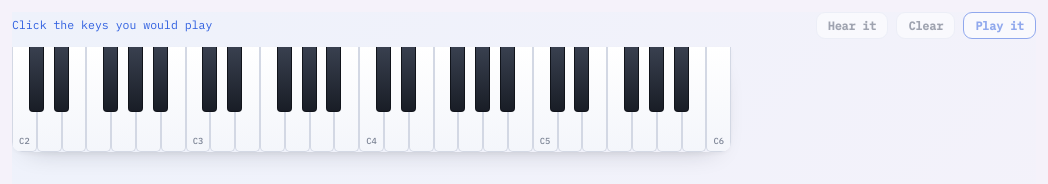
VirtualKeyboard › clears the selection after sending, ready for the next answer
The image size is (1048, 184).
Click the button named "D3" at (223, 99), box [210, 47, 235, 152]
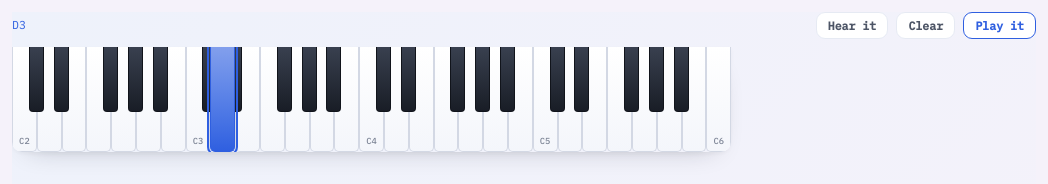
Click the button "Play it" at (1000, 25), box [963, 12, 1036, 39]
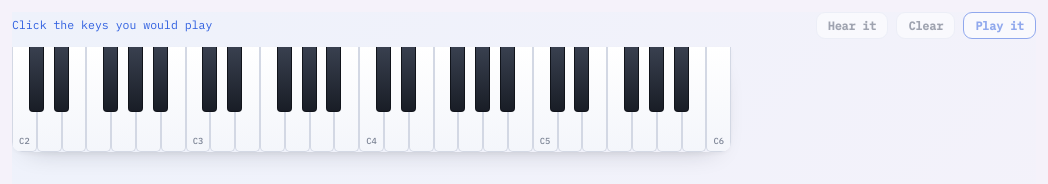
expect the text "Click the keys you would play" is shown: met, box [12, 17, 212, 32]
